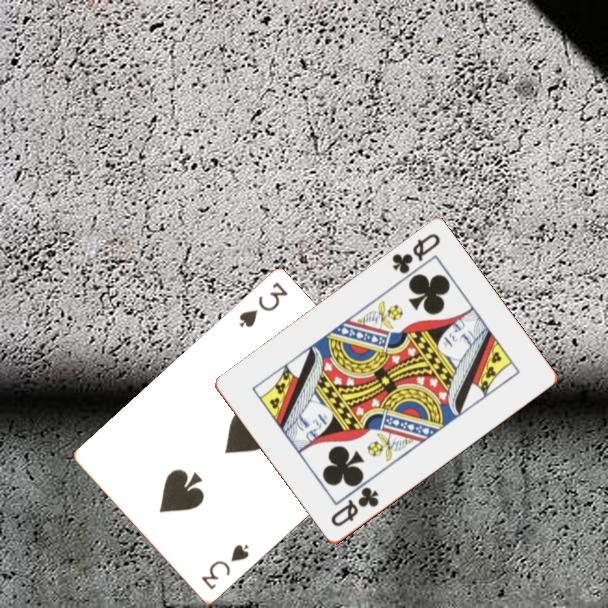c12: (388, 230, 443, 277), (327, 484, 382, 530)
s03: (235, 278, 291, 331), (197, 541, 252, 593)
